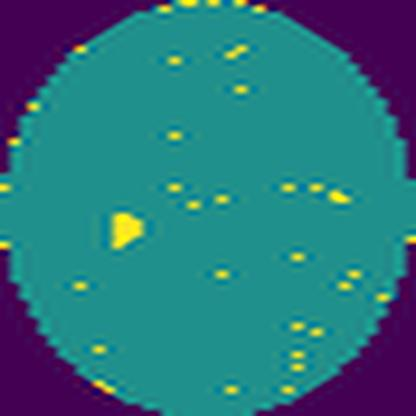Loc: (109, 208, 144, 252)
